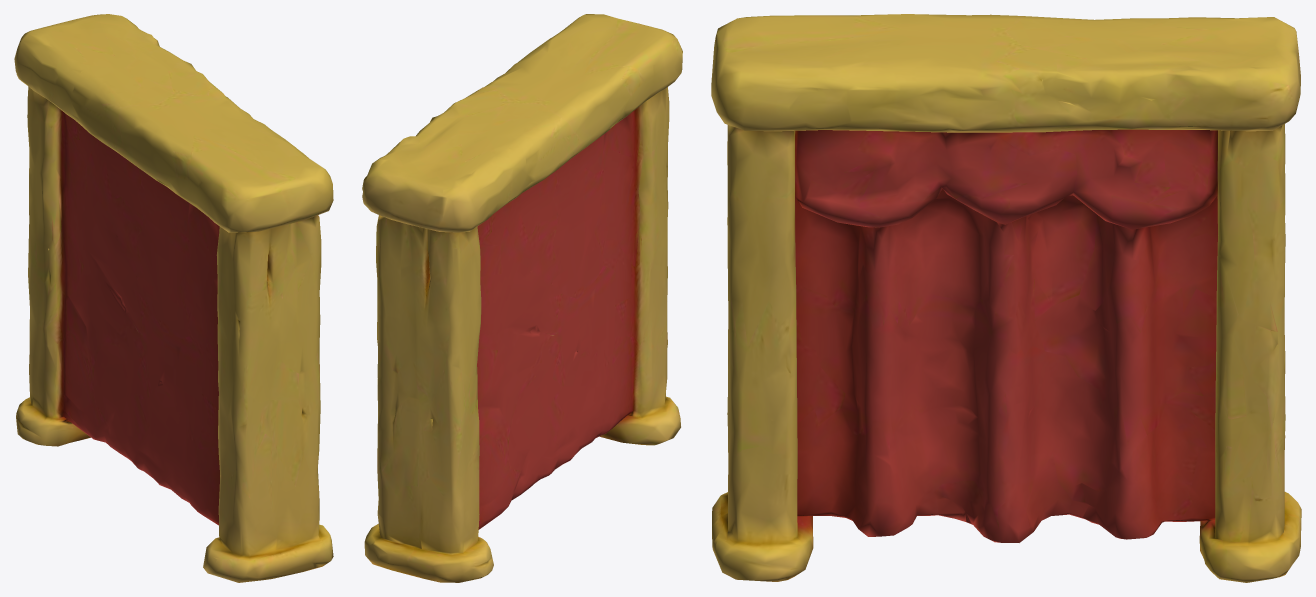
Rendered from curtain.glb.
3 views of the same model, side by side, from view 1: azimuth 30°, elevation 25°; view 2: azimuth 150°, elevation 25°; view 3: azimuth 270°, elevation 25° (orthographic). The views are drawn at different scales.
Visible parts, largest first — view 1: tripo_node_9f302cba-0a7d-406c-b577-dae1c4dc84e0; view 2: tripo_node_9f302cba-0a7d-406c-b577-dae1c4dc84e0; view 3: tripo_node_9f302cba-0a7d-406c-b577-dae1c4dc84e0.
Boxes of the visible parts, <box> form: tripo_node_9f302cba-0a7d-406c-b577-dae1c4dc84e0: <box>14,14,333,582</box>; tripo_node_9f302cba-0a7d-406c-b577-dae1c4dc84e0: <box>362,14,682,582</box>; tripo_node_9f302cba-0a7d-406c-b577-dae1c4dc84e0: <box>711,14,1301,582</box>.
Bounding box in the file's own units: 0.3006 × 0.9502 × 1.
Materials: 1 (1 with a texture image).
